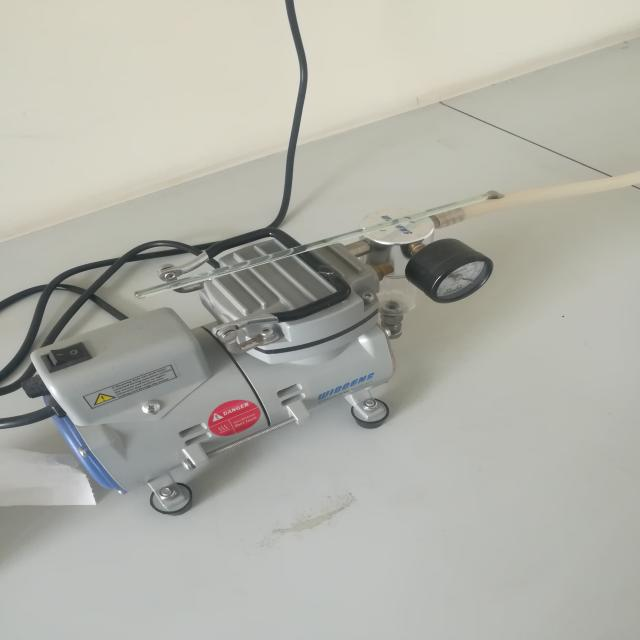Glass_Rod: (119, 173, 528, 301)
